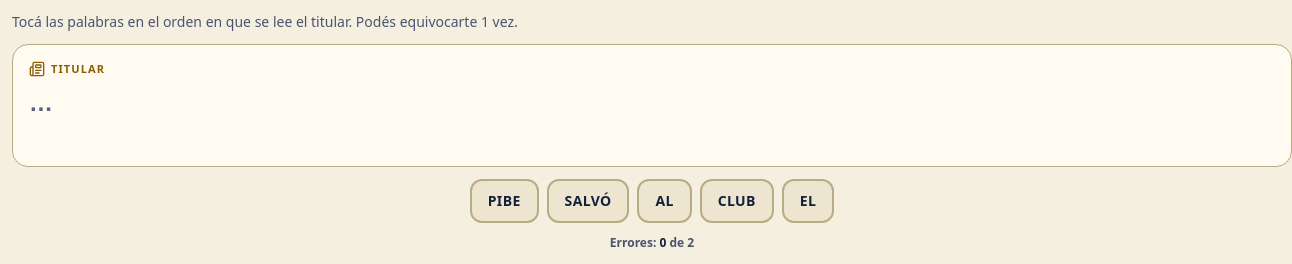
armá el titular (dirigencia y prensa) › una palabra ya puesta no se puede volver a tocar
Click the button "EL" at (808, 200), box [782,178,834,222]
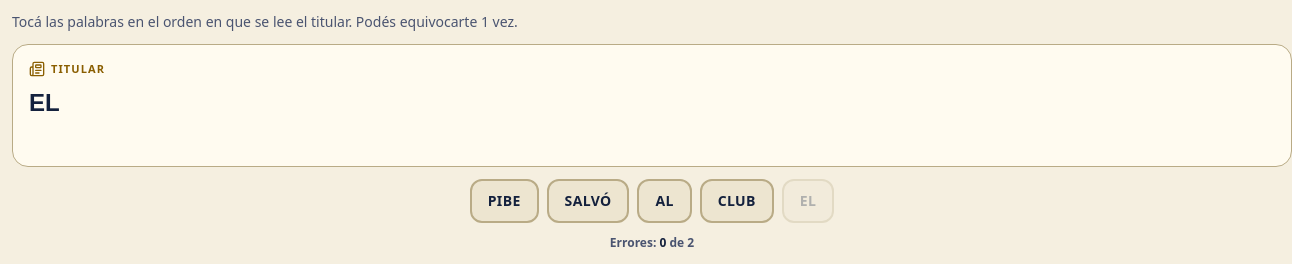
Expected: the button "EL" is disabled, [782,178,834,222]
